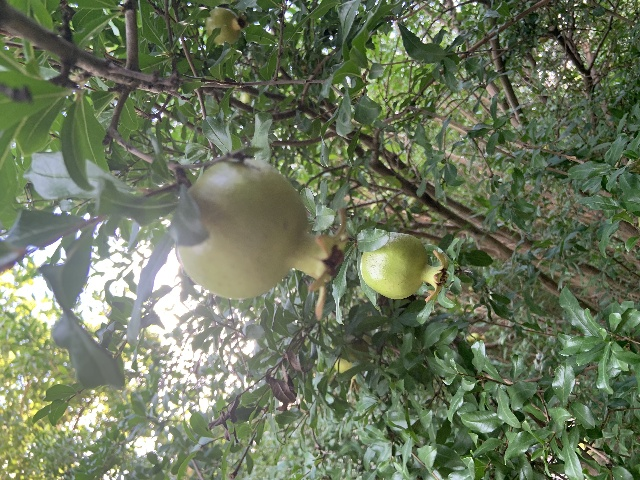mid-growth: (174, 159, 345, 319), (360, 234, 446, 302), (204, 6, 244, 45)
